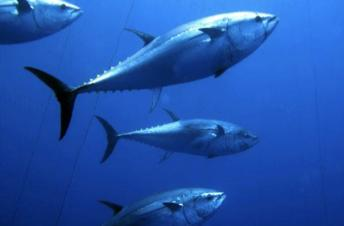Scombridae -Tunas-: (22, 10, 282, 140), (86, 105, 266, 163), (56, 186, 228, 226), (0, 0, 88, 44)
